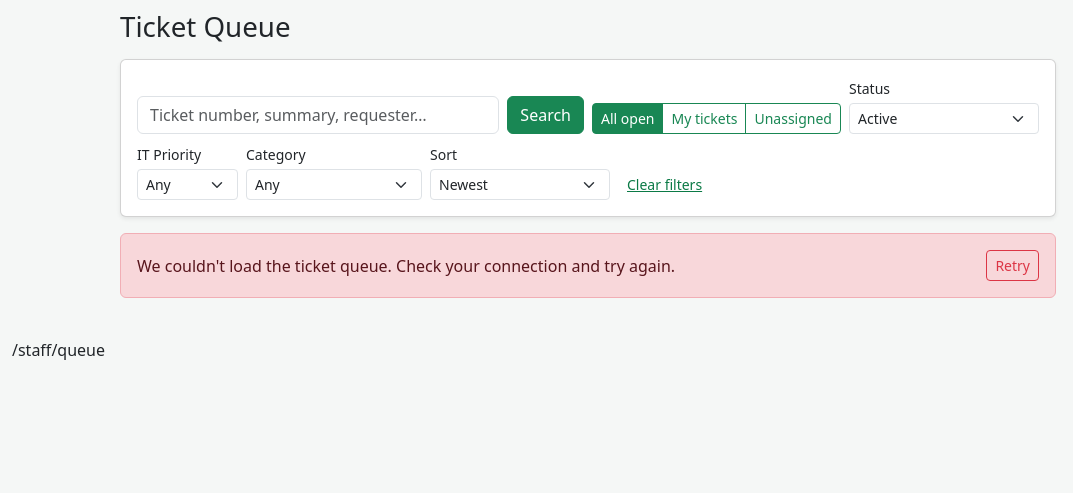
Test: UI-17 queue states › failure shows an alert with Retry that tries again
The width and height of the screenshot is (1073, 493).
Click the button "Retry". click: (1013,266)
box: [986,250,1039,281]
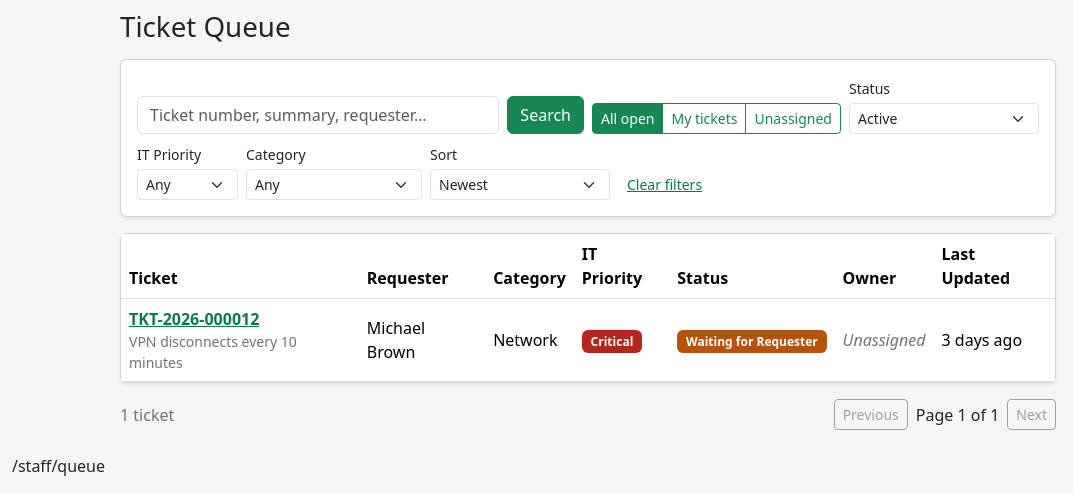
Check: the table is shown, box [121,234,1055,382]
